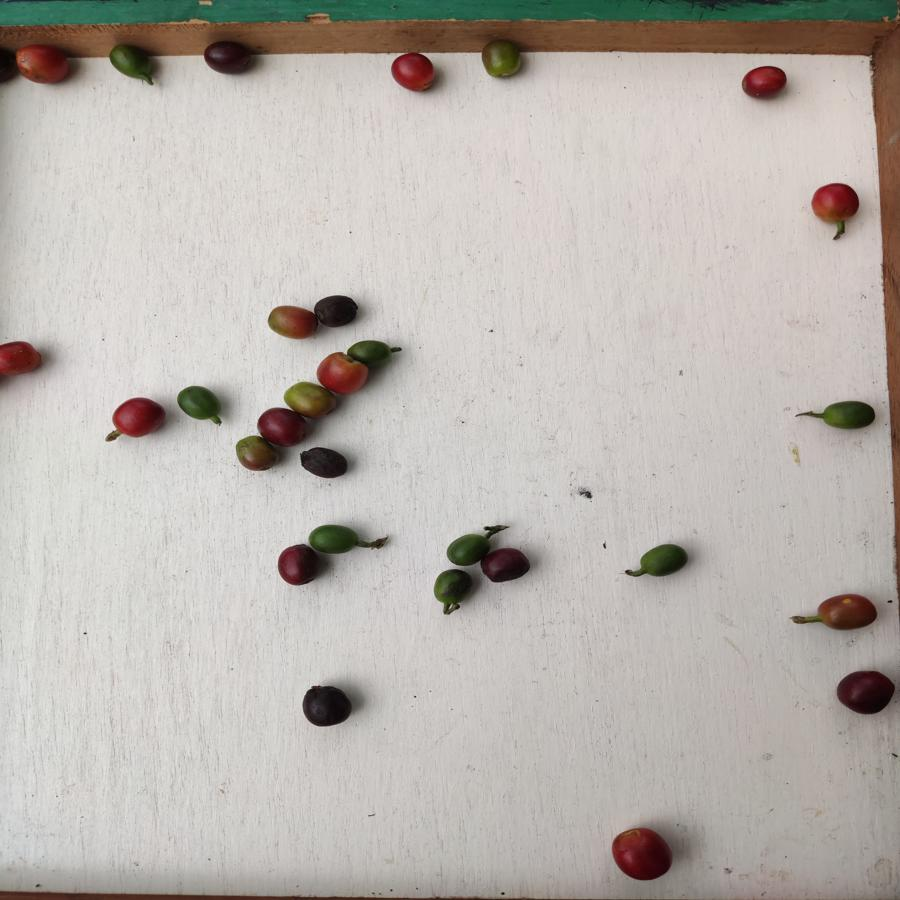Inmaduro: (817, 398, 878, 434), (175, 385, 223, 425), (639, 543, 690, 579), (109, 44, 153, 84), (433, 568, 474, 610), (307, 523, 360, 554), (446, 531, 480, 567), (347, 340, 395, 364)
Maduro: (612, 824, 675, 880), (13, 46, 75, 86), (810, 182, 864, 225), (388, 52, 443, 94), (112, 396, 165, 439), (739, 64, 789, 101), (1, 339, 44, 380)
Pinton: (812, 593, 881, 636), (316, 353, 361, 396), (285, 379, 336, 416), (265, 303, 318, 338), (480, 39, 524, 80), (233, 433, 267, 472)
Sobremaduro: (833, 667, 896, 714), (201, 37, 257, 76), (302, 684, 354, 726), (276, 541, 320, 586), (481, 546, 533, 582), (256, 408, 305, 446), (299, 446, 350, 480), (312, 295, 358, 327)
